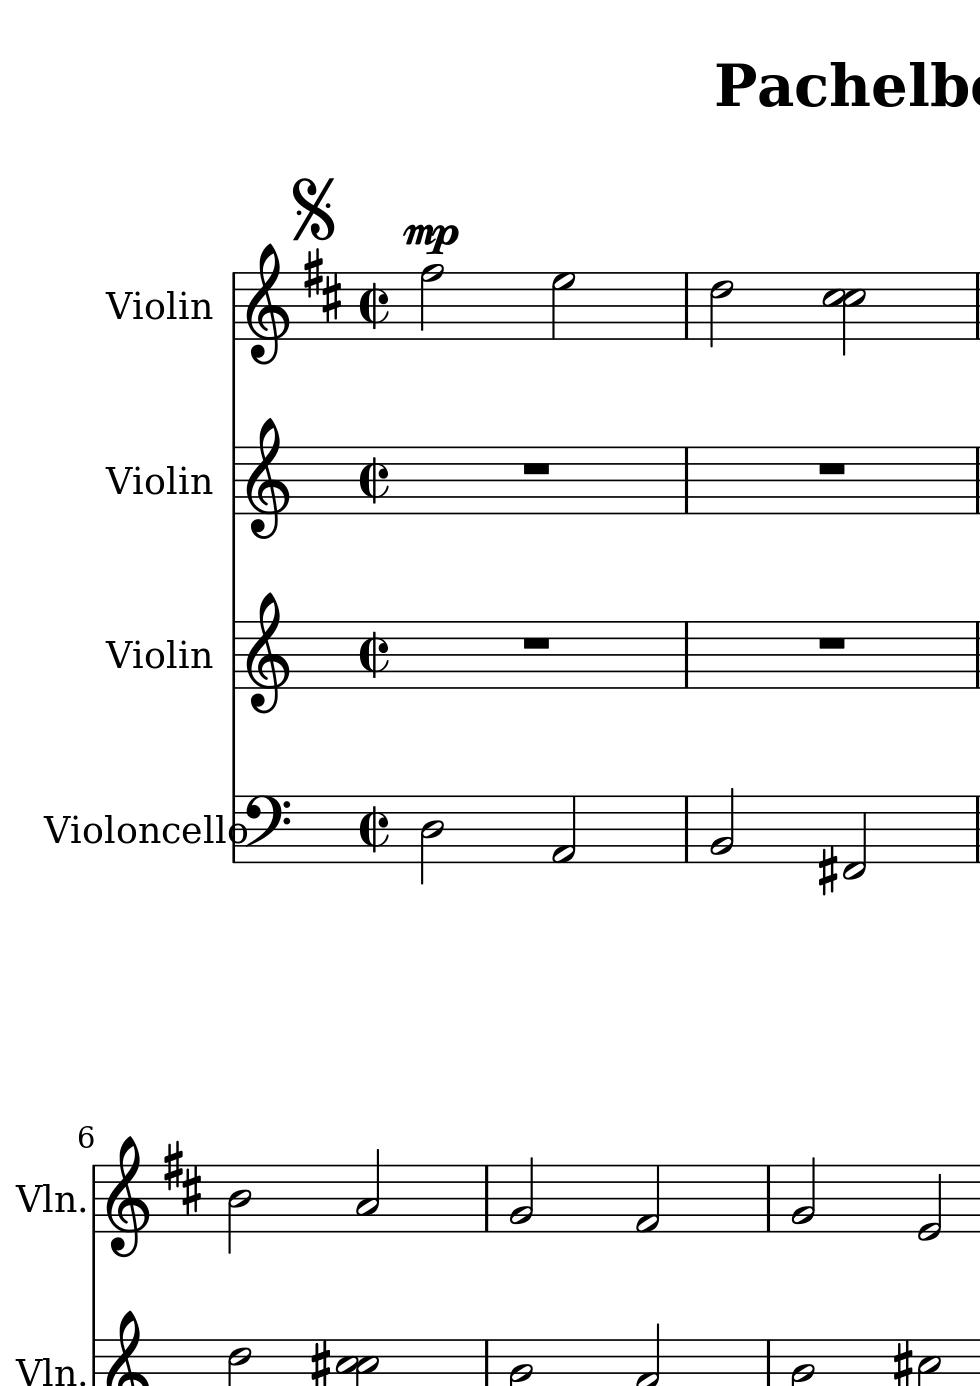2_-1: (841, 793, 868, 879)
2_0: (916, 1162, 943, 1243)
2_1: (550, 793, 578, 866), (634, 1162, 661, 1235)
2_2: (353, 1150, 381, 1233), (789, 1155, 817, 1234), (507, 1156, 535, 1234), (708, 787, 736, 864)
2_4: (418, 792, 444, 885), (226, 1163, 251, 1255)
2_6: (708, 270, 734, 349)
2_7: (549, 270, 576, 341)
2_8: (418, 262, 445, 343)
6: (77, 1123, 94, 1150)
D_S: (162, 1137, 202, 1215), (302, 248, 343, 324)
Fclef: (243, 793, 291, 863)
Gclef: (244, 415, 292, 540), (243, 242, 290, 365), (244, 589, 290, 714), (104, 1134, 148, 1259)
Rests1: (517, 632, 553, 653), (813, 632, 848, 652), (518, 459, 553, 478), (815, 458, 848, 476)
Segno: (288, 175, 335, 243)
Sharp: (816, 845, 838, 897), (890, 1339, 912, 1386)
Single_barline: (677, 271, 695, 340), (227, 795, 244, 865), (678, 448, 694, 514), (678, 622, 694, 688), (478, 1166, 494, 1232), (227, 448, 242, 515), (227, 621, 242, 689), (762, 1166, 776, 1232), (227, 271, 241, 341), (679, 797, 694, 862), (88, 1164, 100, 1233), (968, 448, 979, 514), (969, 622, 980, 688), (969, 796, 980, 862), (969, 273, 979, 340)
TimeSig: (357, 271, 390, 340), (358, 445, 391, 514), (356, 619, 389, 688), (355, 794, 388, 863), (357, 448, 391, 513), (357, 622, 391, 688), (358, 273, 390, 337), (358, 796, 389, 863)
Vln: (16, 1178, 78, 1221), (14, 1351, 78, 1386)
mp: (402, 222, 461, 257)
